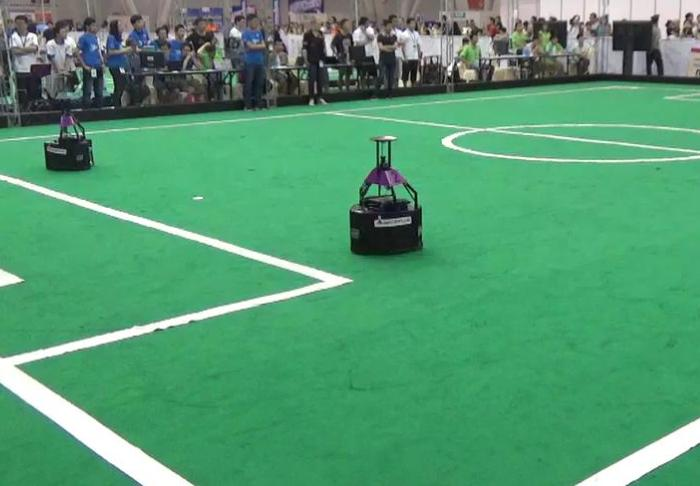robot: (345, 132, 428, 258), (40, 91, 96, 173)
